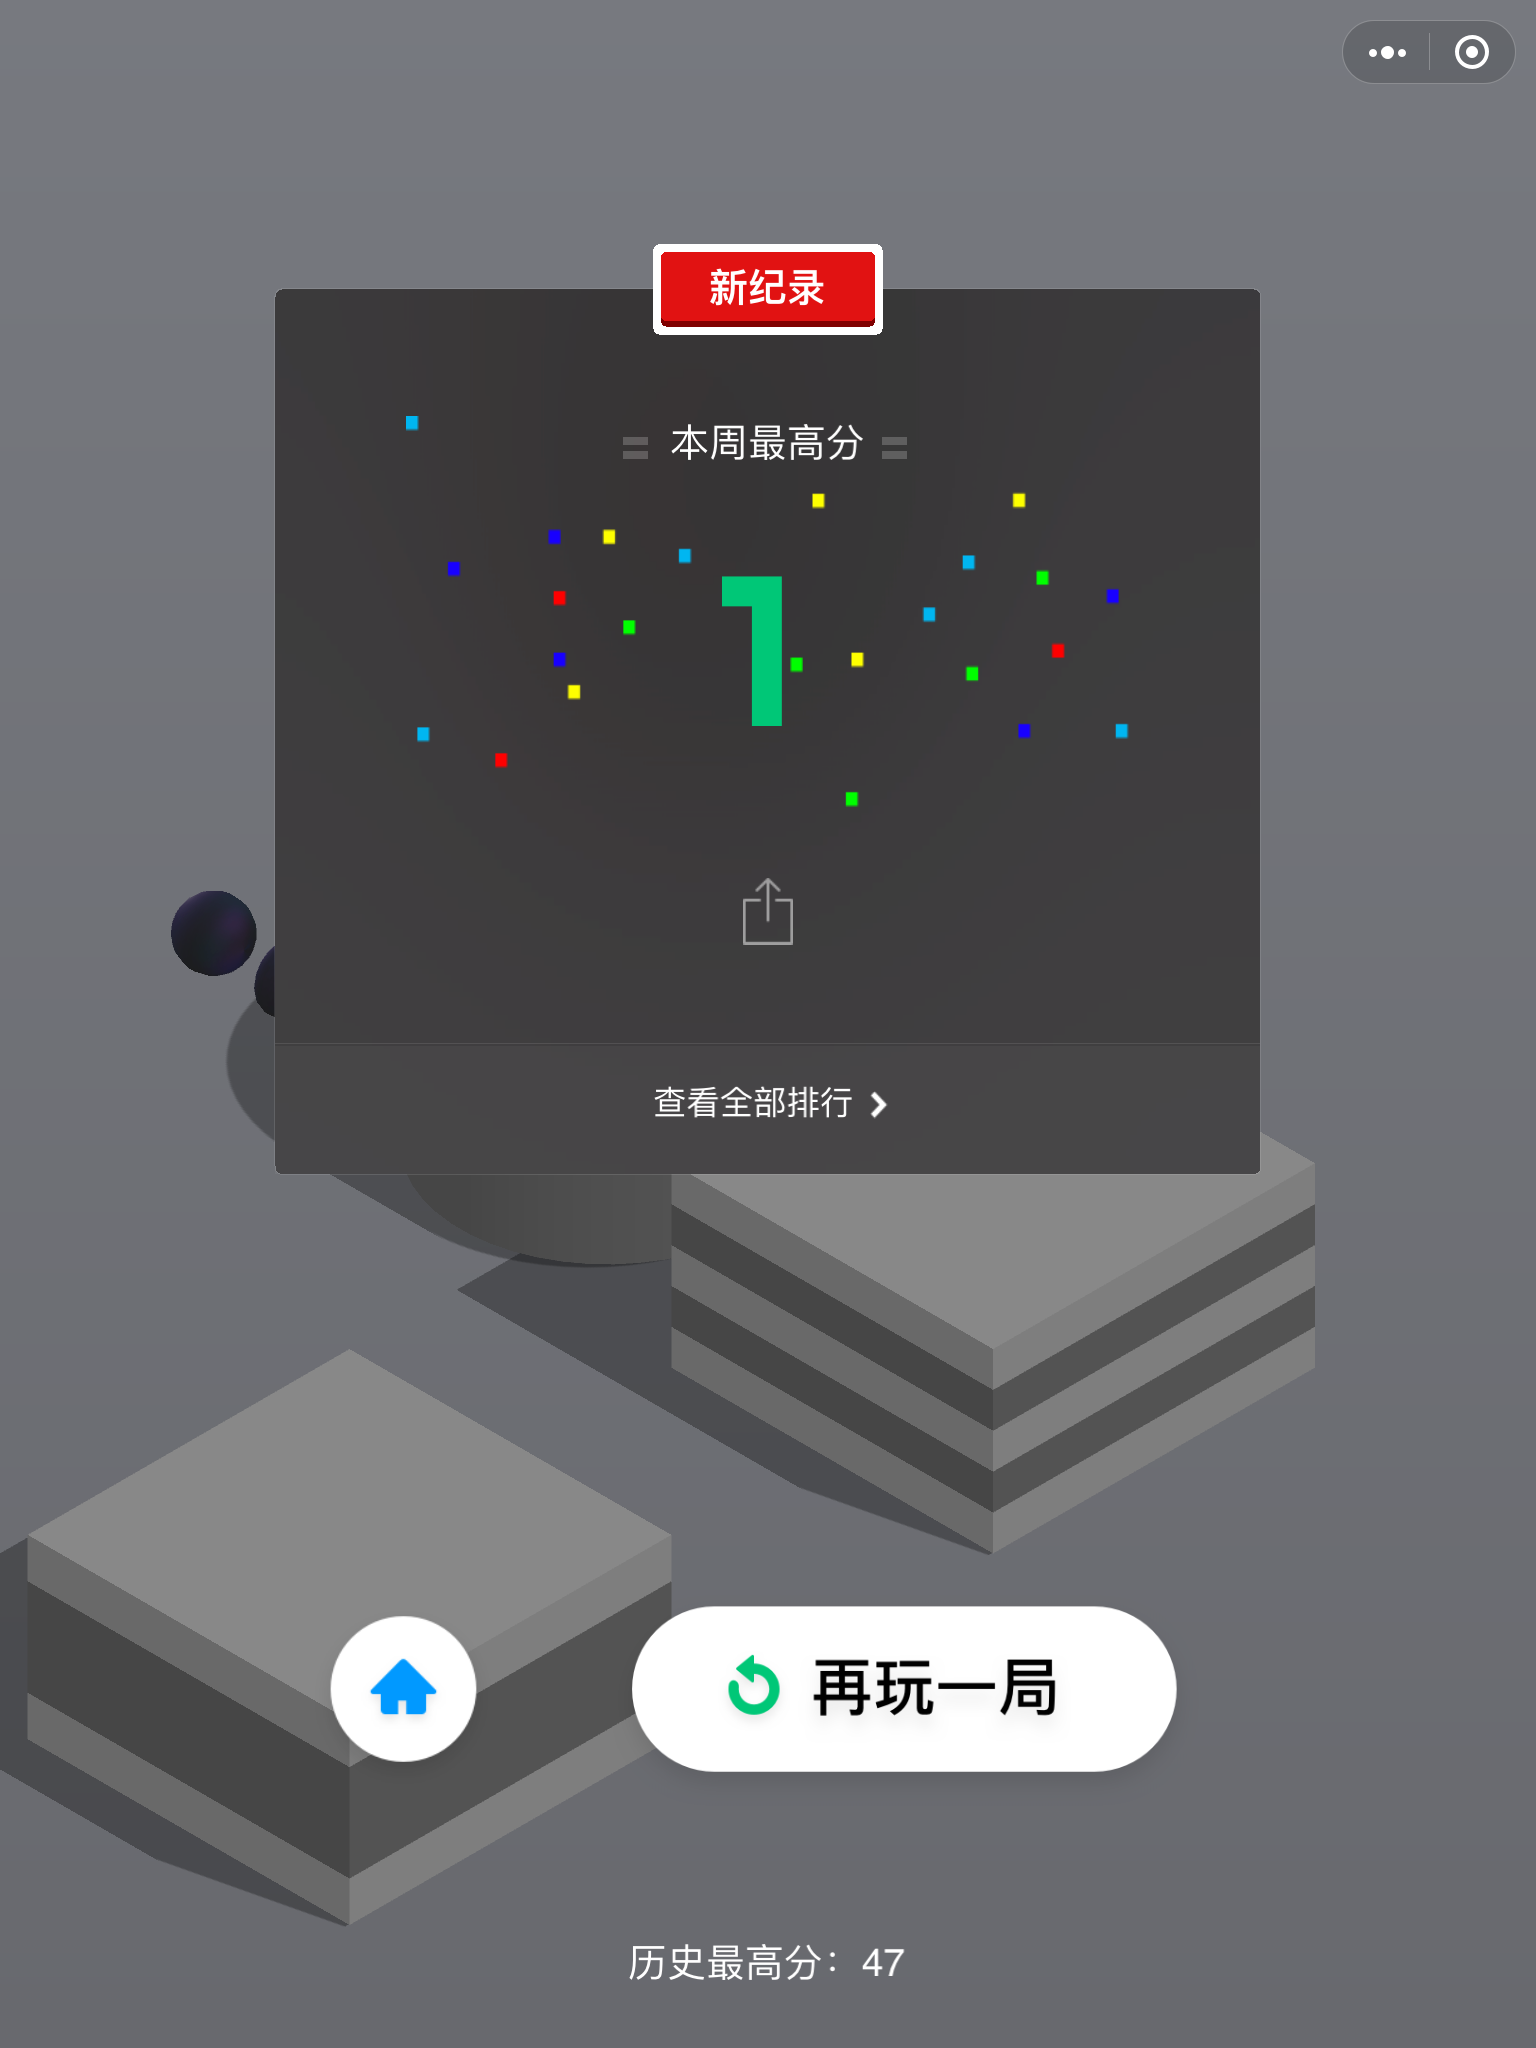f: (19, 1347, 681, 1925), (665, 984, 1325, 1559)
s: (629, 1600, 1183, 1780)
